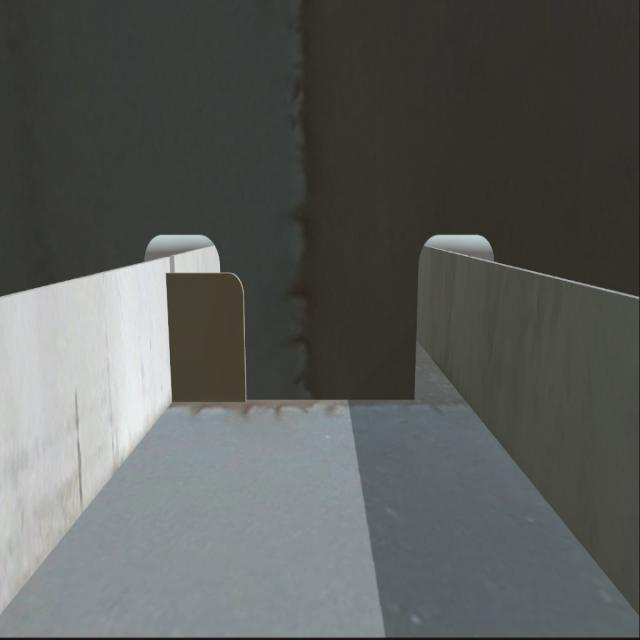fillet_yong_jeop_jang: (168, 391, 418, 408)
longi_yong_jeop_jang: (159, 267, 179, 413)
plate_CP05: (170, 271, 249, 405)
